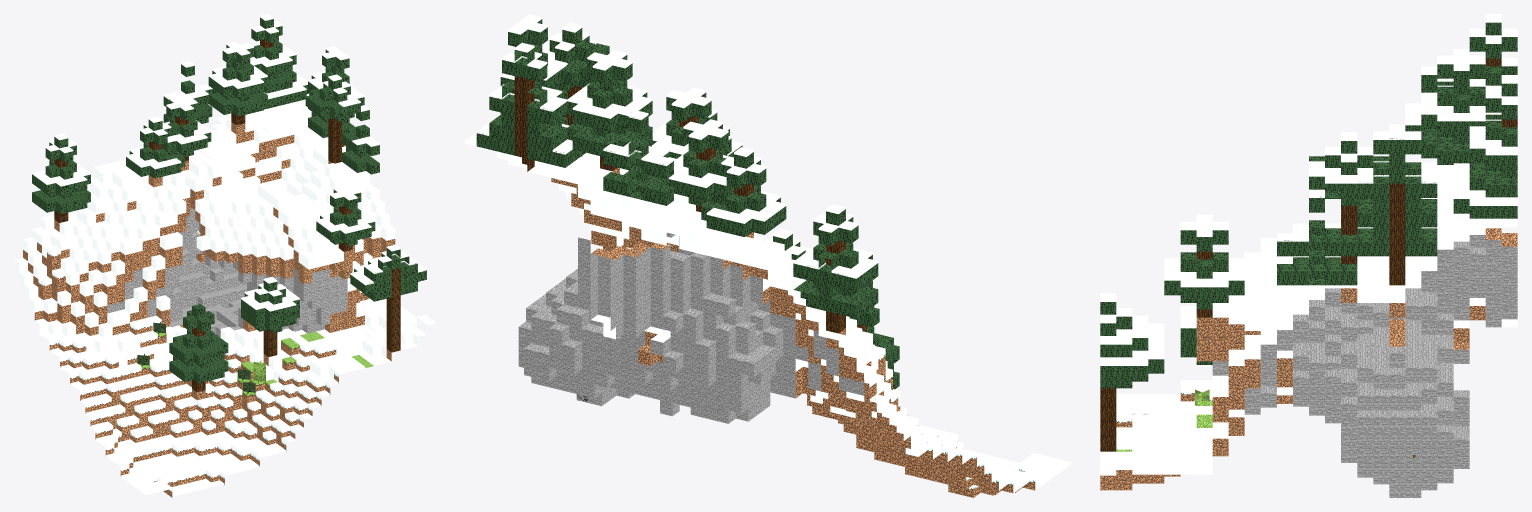
File: LightTesting.glb
3 views of the same model, side by side, from view 1: azimuth 30°, elevation 25°; view 2: azimuth 150°, elevation 25°; view 3: azimuth 270°, elevation 25° (orthographic). The views are drawn at different scales.
Parts seen in each view (by area): view 1: stone; view 2: stone; view 3: stone.
Boxes of the visible parts, box(x1,y1,x2,y2) form: stone: box(14, 14, 435, 497); stone: box(464, 14, 1071, 497); stone: box(1100, 14, 1517, 497).
Bounding box in the file's own units: 33 × 36.12 × 26.
16 materials, 16 textured.
